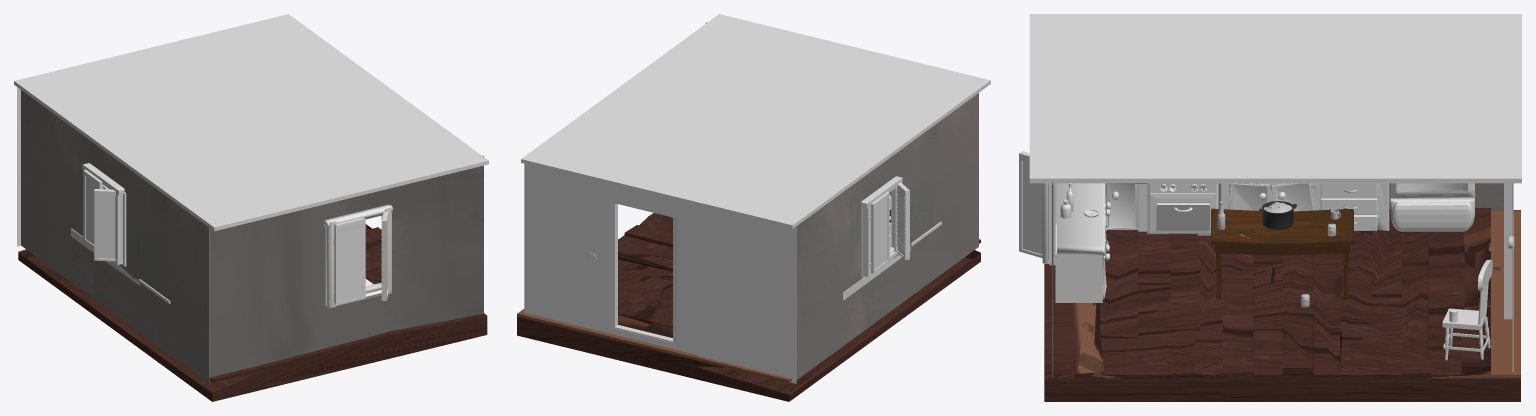
Rendered from LN_Kitchenm8.0.fbx.
3 views of the same model, side by side, from view 1: azimuth 30°, elevation 25°; view 2: azimuth 150°, elevation 25°; view 3: azimuth 270°, elevation 25° (orthographic). The views are drawn at different scales.
Visible parts, largest first — view 1: Cube.005, WALL 2, WALL 1, FLOOR, Window.003, Window, Window.001, Side 2.001, Cube.004, Window.002, Side, Top counter.001 (+1 smaller); view 2: Cube.005, Cube.004, WALL 1, FLOOR, Window.001, Window, Side 2; view 3: Cube.005, FLOOR, TABLETOP, FRIDGE, counter top, counter, kitchen counter, Window.002, stove base, stove door, Cube.004, Door front facing view (+8 smaller).
Part boxes in pixels (<box>): Cube.005: <box>14,14,488,231</box>; WALL 2: <box>210,155,483,382</box>; WALL 1: <box>21,90,210,382</box>; FLOOR: <box>18,224,487,401</box>; Window.003: <box>334,217,365,305</box>; Window: <box>94,189,121,261</box>; Window.001: <box>83,170,103,247</box>; Side 2.001: <box>325,221,336,308</box>; Cube.004: <box>17,87,20,246</box>; Window.002: <box>381,211,388,300</box>; Side: <box>113,187,122,264</box>; Top counter.001: <box>324,204,392,228</box>; Cube.005: <box>521,14,990,228</box>; Cube.004: <box>524,163,796,383</box>; WALL 1: <box>796,93,978,380</box>; FLOOR: <box>517,213,980,401</box>; Window.001: <box>871,192,889,273</box>; Window: <box>896,182,909,260</box>; Side 2: <box>863,200,871,276</box>; Cube.005: <box>1029,14,1521,183</box>; FLOOR: <box>1044,208,1520,401</box>; TABLETOP: <box>1211,208,1353,255</box>; FRIDGE: <box>1390,183,1475,231</box>; counter top: <box>1055,183,1146,255</box>; counter: <box>1220,183,1389,230</box>; kitchen counter: <box>1055,184,1147,302</box>; Window.002: <box>1019,151,1048,259</box>; stove base: <box>1147,184,1218,235</box>; stove door: <box>1156,203,1209,230</box>; Cube.004: <box>1504,182,1513,372</box>; Door front facing view: <box>1106,184,1137,229</box>.
Size of the model in its own units: 3908 by 2252 by 4648.
